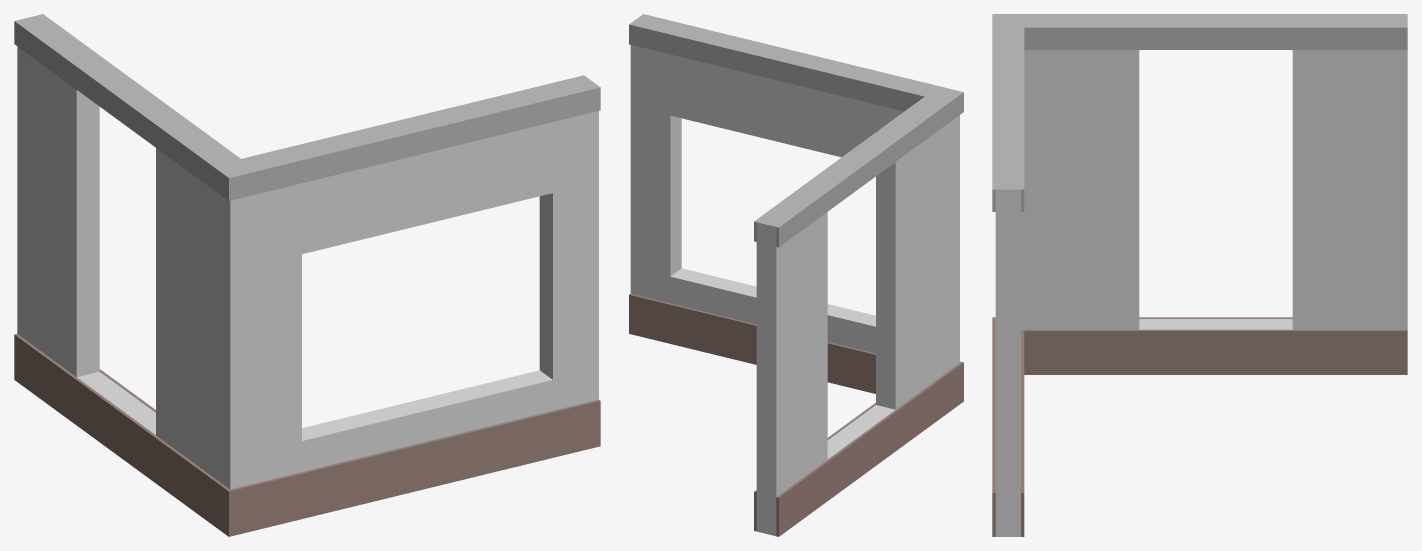
Rendered from Wall05-06.fbx.
3 views of the same model, side by side, from view 1: azimuth 30°, elevation 25°; view 2: azimuth 150°, elevation 25°; view 3: azimuth 270°, elevation 25° (orthographic). The views are drawn at different scales.
Visible parts, largest first — view 1: Wall05-06; view 2: Wall05-06; view 3: Wall05-06.
Part boxes in pixels (x1,y1,x2,y2): Wall05-06: [14, 14, 600, 536]; Wall05-06: [629, 14, 963, 536]; Wall05-06: [992, 14, 1407, 536].
Size of the model in its own units: 3.25 by 3.25 by 3.
